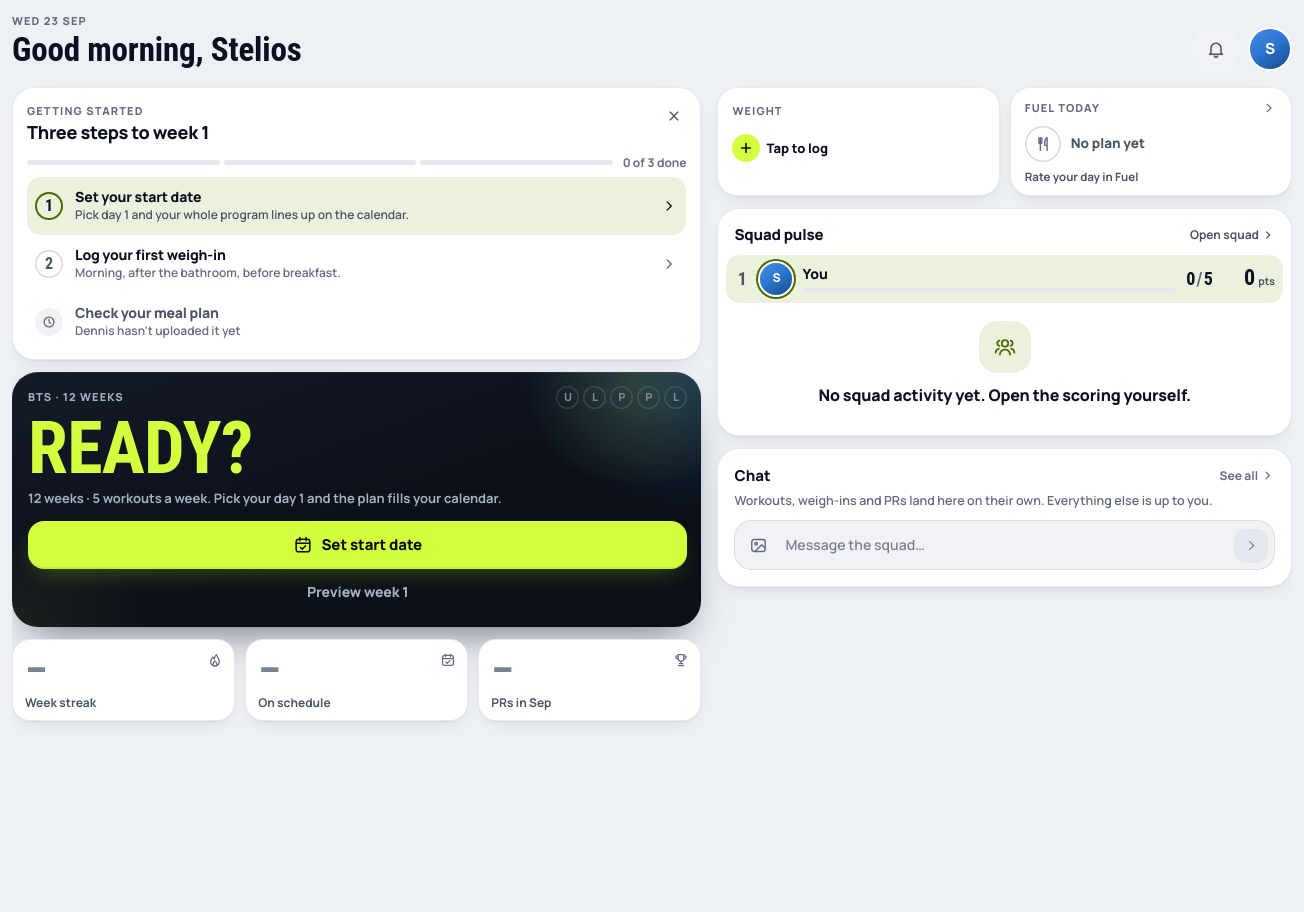
Test case: HomePage (athlete) › hides the checklist when dismissed
Click the button named "Hide the checklist": click(674, 116) [656,98,692,134]
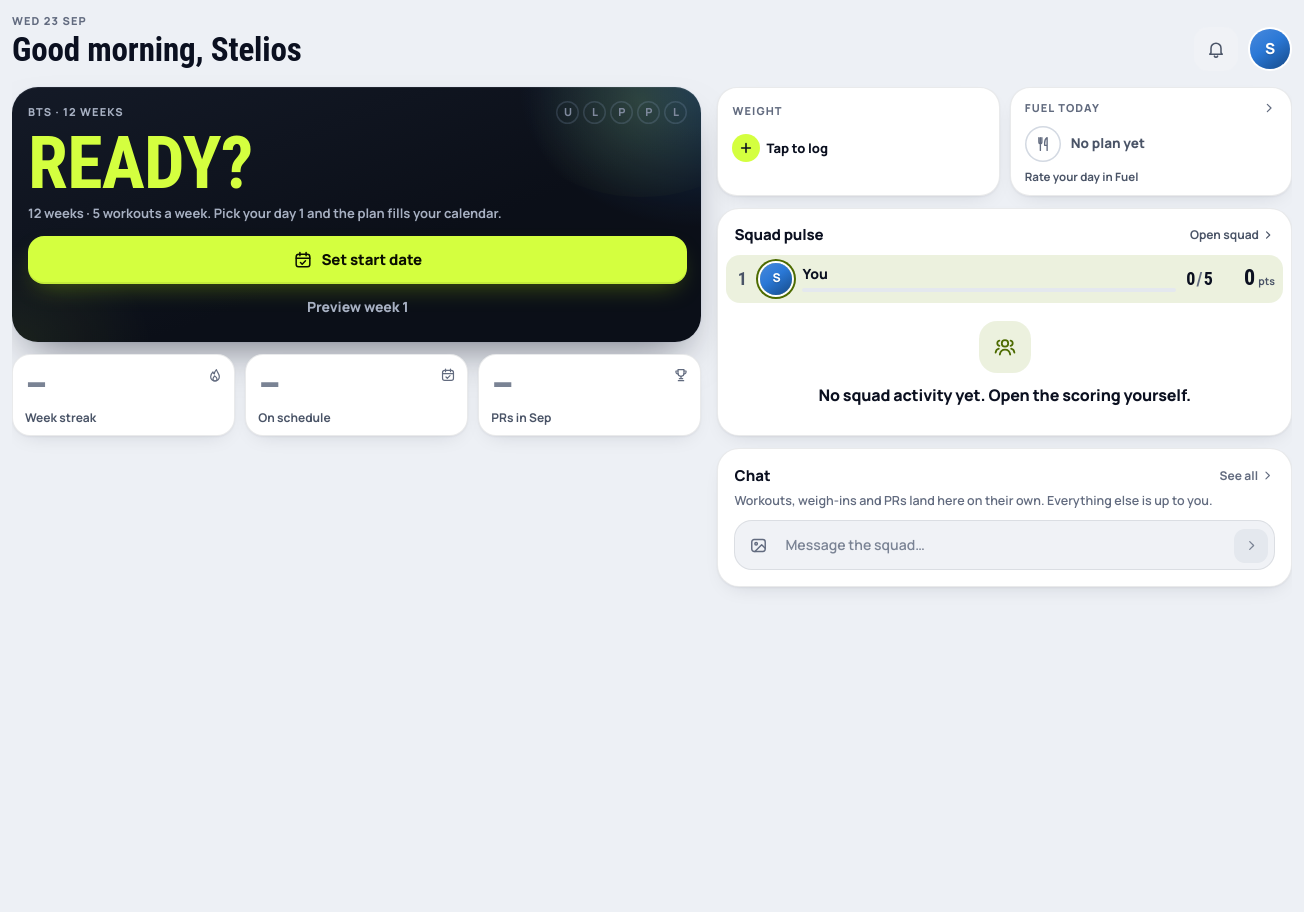
Now the heading "Three steps to week 1" is gone
